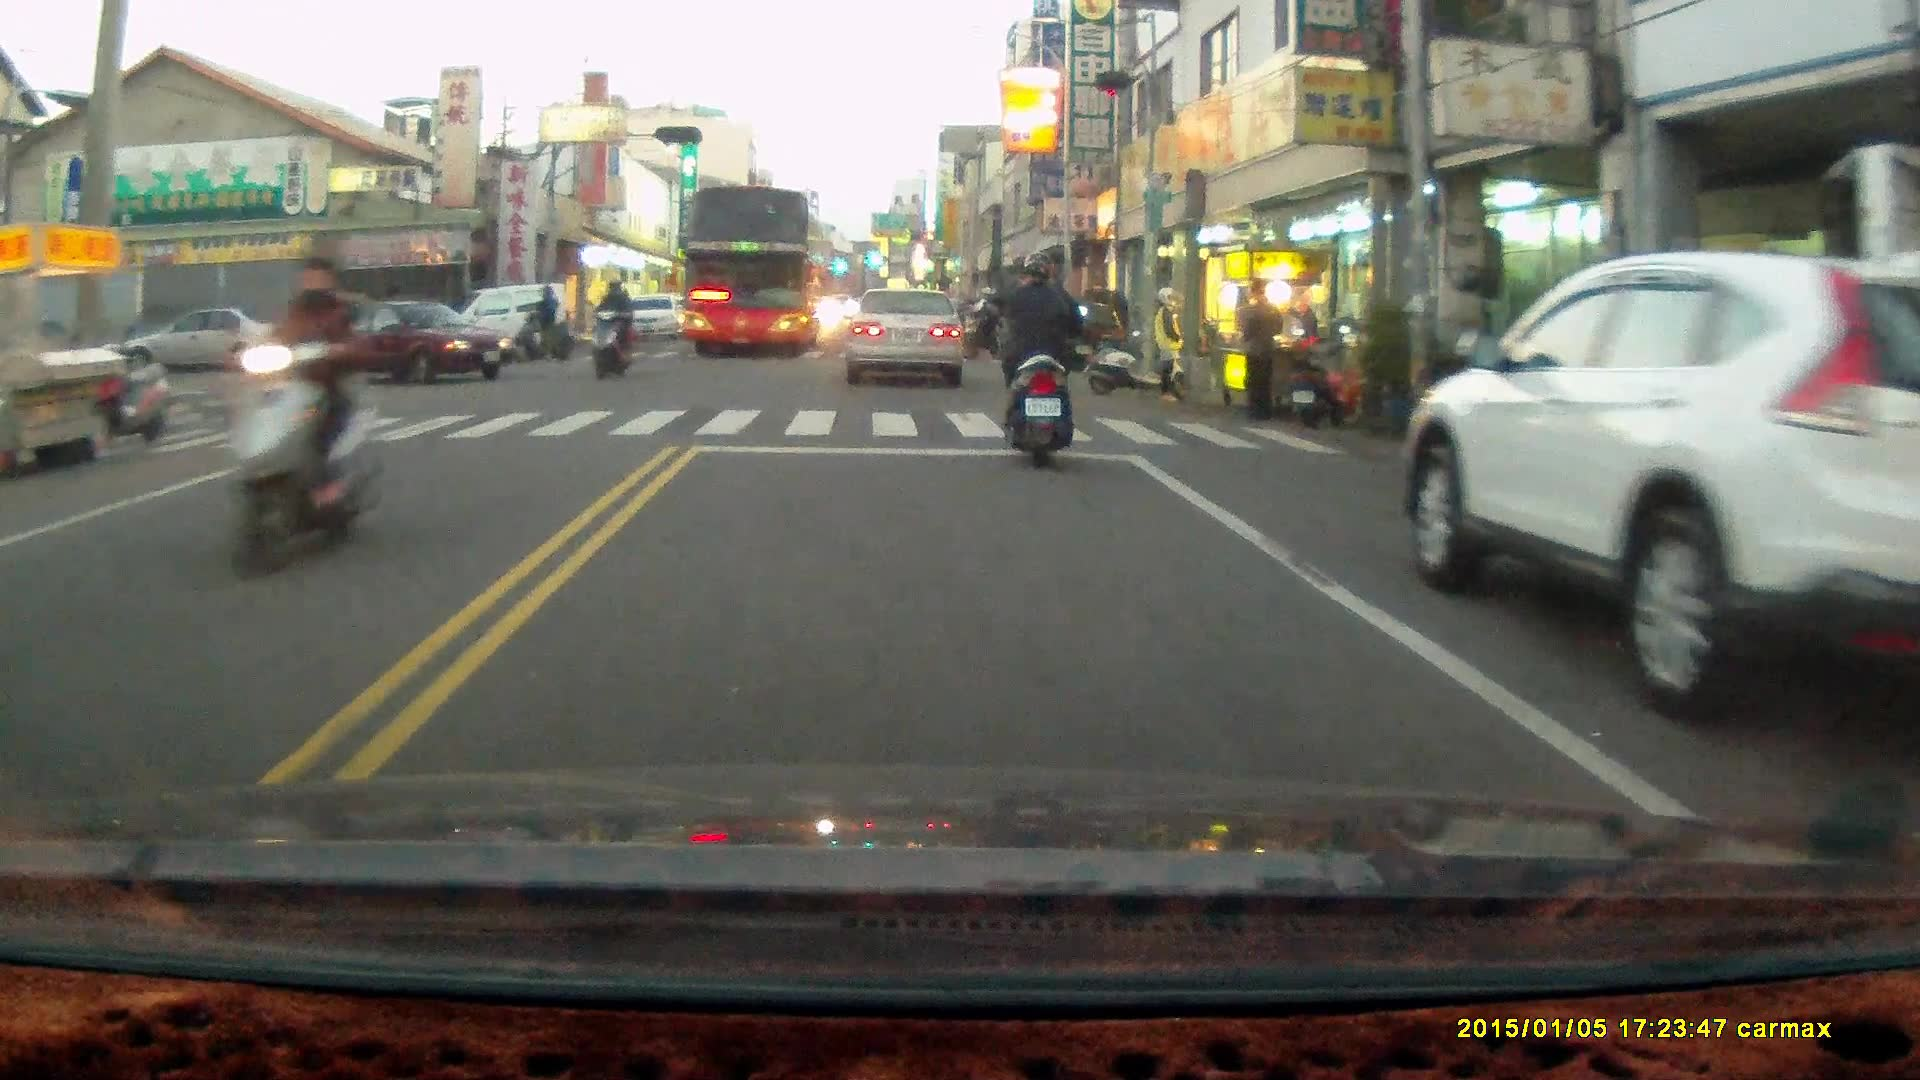pedestrian: (1238, 278, 1280, 425), (1148, 285, 1185, 407)
rider: (226, 231, 385, 581), (989, 252, 1089, 470), (510, 283, 573, 362), (587, 279, 633, 380), (960, 285, 1013, 364)
vehicle: (1400, 250, 1917, 731), (677, 190, 823, 368), (313, 300, 509, 386), (435, 280, 579, 375), (845, 287, 968, 392), (113, 311, 284, 379)
